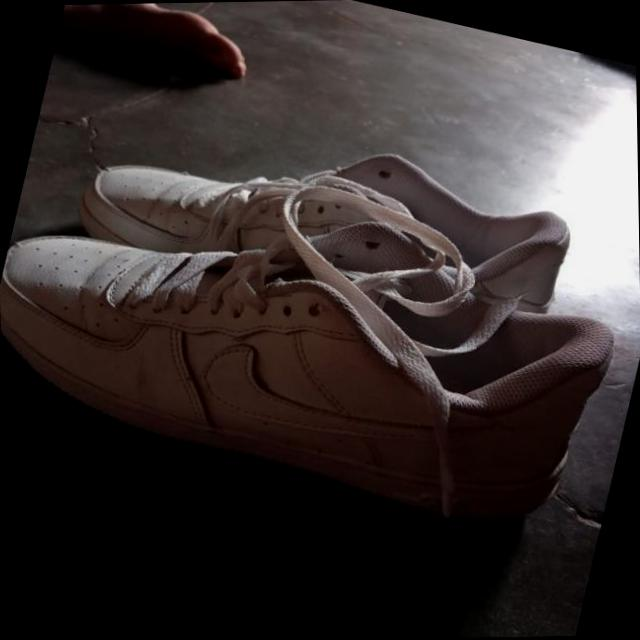nike_fake_airforce: (0, 174, 632, 547), (58, 75, 581, 378)
